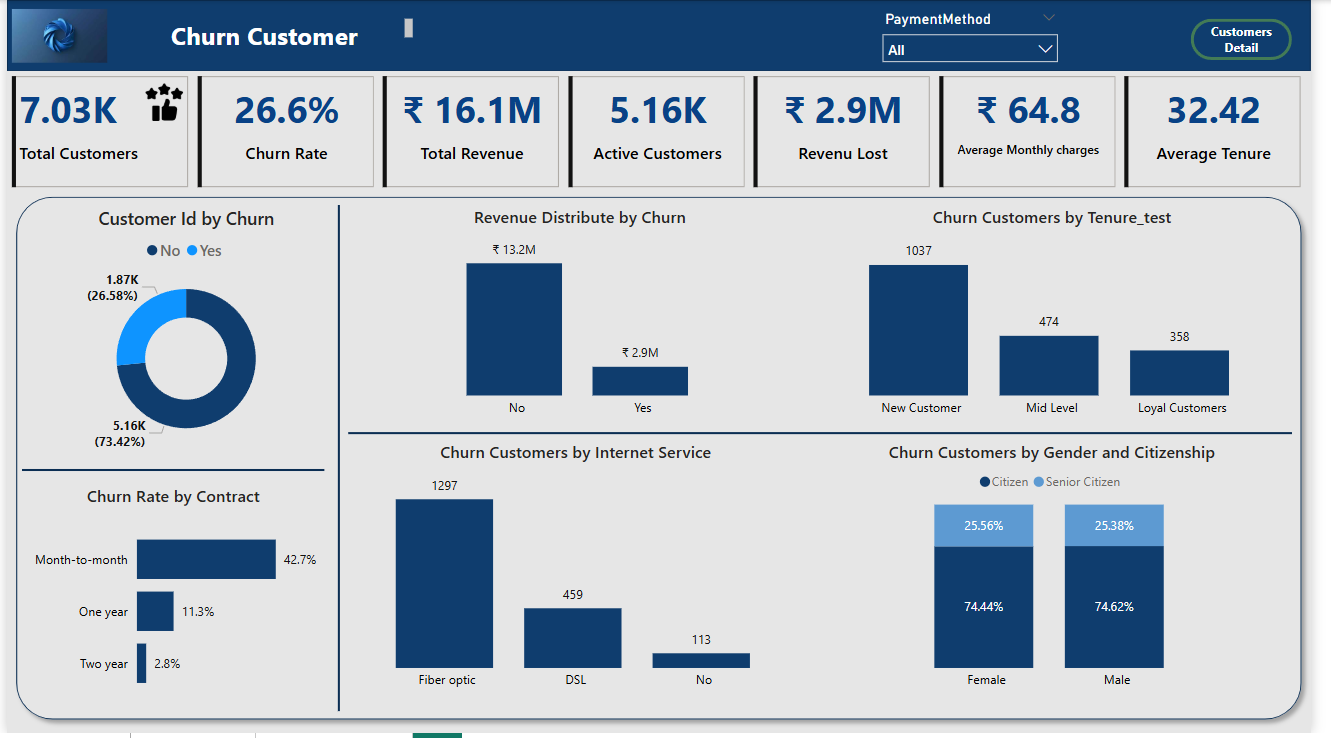

Layout of this report page (visuals, bound fields, positions):
{"tool":"powerbi","page":{"name":"Dashboard","canvas":[1280,720],"ordinal":0},"visuals":[{"type":"shape","box":[0,0,1279.8,69.9],"z":0,"group":"g1"},{"type":"shape","box":[0,184.1,1279.8,531.3],"z":0},{"type":"image","box":[0,0,103,69.9],"z":1000,"group":"g1"},{"type":"cardVisual","fields":{"Data":["Measures (2).Total Customers","Measures (2).Churn Rate","Measures (2).Total Revenue","Measures (2).Active Customers","Measures (2).Revenu Lost","Measures (2).Average Monthly charges","Measures (2).Average Tenure"]},"box":[0,69.9,1279.8,119],"z":1000},{"type":"textbox","box":[103.1,13.5,312.9,44.2],"z":2000,"group":"g1"},{"type":"donutChart","title":"Customer Id by Churn","fields":{"Category":["WA_Fn-UseC_-Telco-Customer-Churn.Churn"],"Y":["CountNonNull(WA_Fn-UseC_-Telco-Customer-Churn.customerID)"]},"box":[25.8,202.5,300.6,245.4],"z":2000},{"type":"shape","box":[298.2,201.2,55.2,496.9],"z":3000},{"type":"shape","box":[14.7,447.9,296.9,27],"z":4000},{"type":"clusteredBarChart","fields":{"Category":["WA_Fn-UseC_-Telco-Customer-Churn.Contract"],"Y":["Measures (2).Churn Rate"]},"box":[14.7,474.8,296.9,223.3],"z":5000},{"type":"clusteredColumnChart","title":"Churn Customers by Internet Service","fields":{"Category":["WA_Fn-UseC_-Telco-Customer-Churn.InternetService"],"Y":["Measures (2).Churn Customers"]},"box":[326.4,431.9,463.8,254],"z":6000},{"type":"columnChart","fields":{"Y":["Measures (2).Churn Customers"],"Category":["WA_Fn-UseC_-Telco-Customer-Churn.Tenure_test"]},"box":[790.2,201.2,471.2,217.2],"z":7000},{"type":"hundredPercentStackedColumnChart","fields":{"Y":["Measures (2).Churn Customers"],"Category":["WA_Fn-UseC_-Telco-Customer-Churn.gender"],"Series":["WA_Fn-UseC_-Telco-Customer-Churn.Citizenship"]},"box":[790.2,431.9,471.2,254],"z":8000},{"type":"columnChart","title":"Revenue Distribute  by Churn","fields":{"Category":["WA_Fn-UseC_-Telco-Customer-Churn.Churn"],"Y":["Measures (2).Total Revenue"]},"box":[335,201.2,455.2,217.2],"z":9000},{"type":"shape","box":[335,418.4,926.4,13.5],"z":10000},{"type":"group","id":"g1","title":"Heading","box":[0,0,1279.8,69.9],"z":11000},{"type":"slicer","fields":{"Values":["WA_Fn-UseC_-Telco-Customer-Churn.PaymentMethod"]},"box":[849.1,4.9,192.6,65],"z":12000},{"type":"actionButton","box":[1162,18.4,99.4,40.5],"z":13000}]}

Visuals, with their boxes in screenshot pixels (x1, y1, x2, y2), scaled from the page's 1280x720 canvas onto the 1331x738 screenshot:
shape: <region>0, 0, 1330, 72</region>
shape: <region>0, 189, 1330, 733</region>
image: <region>0, 0, 107, 72</region>
cardVisual - Measures (2).Total Customers x Measures (2).Churn Rate: <region>0, 72, 1330, 194</region>
textbox: <region>107, 14, 433, 59</region>
"Customer Id by Churn" donutChart: <region>27, 208, 339, 459</region>
shape: <region>310, 206, 367, 716</region>
shape: <region>15, 459, 324, 487</region>
clusteredBarChart - WA_Fn-UseC_-Telco-Customer-Churn.Contract x Measures (2).Churn Rate: <region>15, 487, 324, 716</region>
"Churn Customers by Internet Service" clusteredColumnChart: <region>339, 443, 822, 703</region>
columnChart - Measures (2).Churn Customers x WA_Fn-UseC_-Telco-Customer-Churn.Tenure_test: <region>822, 206, 1312, 429</region>
hundredPercentStackedColumnChart - Measures (2).Churn Customers x WA_Fn-UseC_-Telco-Customer-Churn.gender: <region>822, 443, 1312, 703</region>
"Revenue Distribute  by Churn" columnChart: <region>348, 206, 822, 429</region>
shape: <region>348, 429, 1312, 443</region>
"Heading" group: <region>0, 0, 1330, 72</region>
slicer - WA_Fn-UseC_-Telco-Customer-Churn.PaymentMethod: <region>883, 5, 1083, 72</region>
actionButton: <region>1208, 19, 1312, 60</region>
